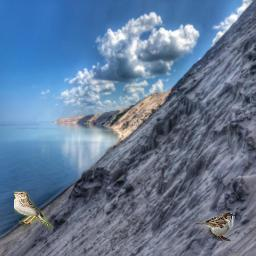Sparrow: (14, 191, 54, 228), (195, 211, 235, 241)
